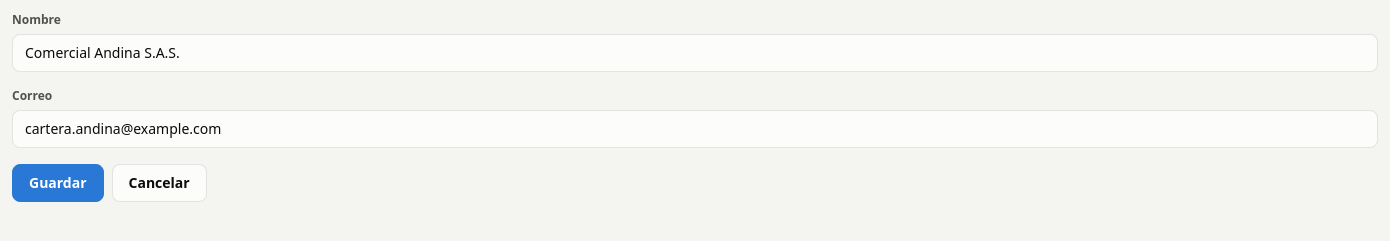
Test: FormularioCliente › muestra junto al campo los errores de validación que devuelve la API
Click the button "Guardar".
click(58, 183)  # box [12,164,104,202]
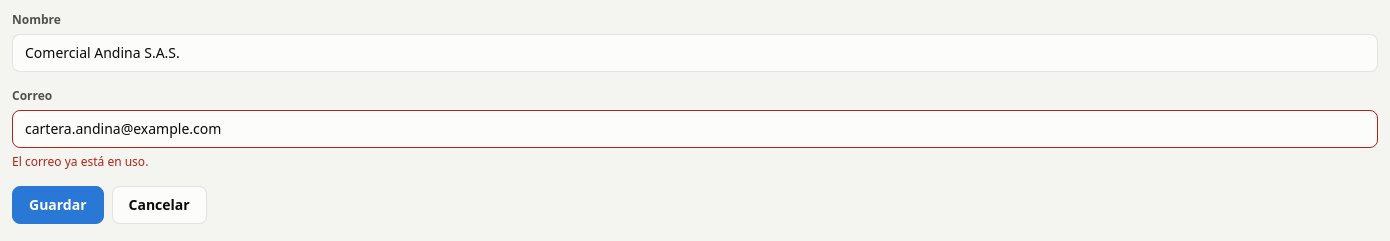
Check: the text "El correo ya está en uso." is shown, box [12,153,148,170]
